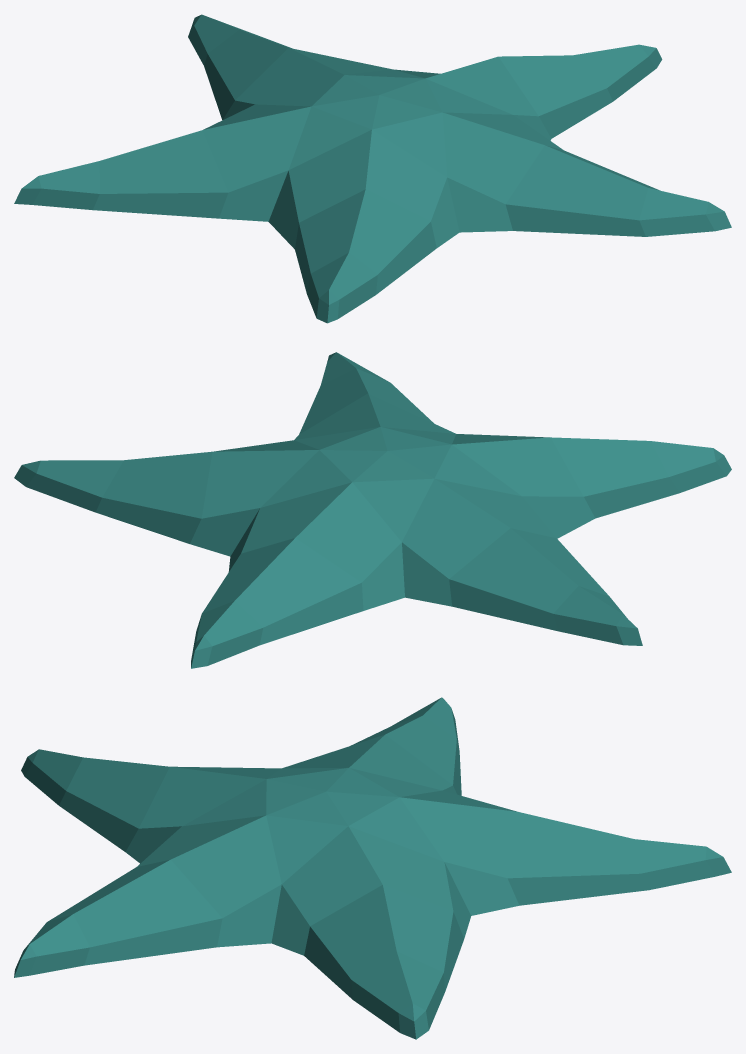
Rendered from SM_Sea_Star_Dead_B.fbx.
3 views of the same model, one above another, from view 1: azimuth 30°, elevation 25°; view 2: azimuth 150°, elevation 25°; view 3: azimuth 270°, elevation 25° (orthographic). The views are drawn at different scales.
Parts seen in each view (by area): view 1: sea-star-dead-b; view 2: sea-star-dead-b; view 3: sea-star-dead-b.
Part boxes in pixels (left/top/right/bottom): sea-star-dead-b: left=14, top=14, right=731, bottom=323; sea-star-dead-b: left=14, top=352, right=731, bottom=668; sea-star-dead-b: left=14, top=697, right=731, bottom=1039.
Bounding box in the file's own units: 0.3036 × 0.035 × 0.2805.
